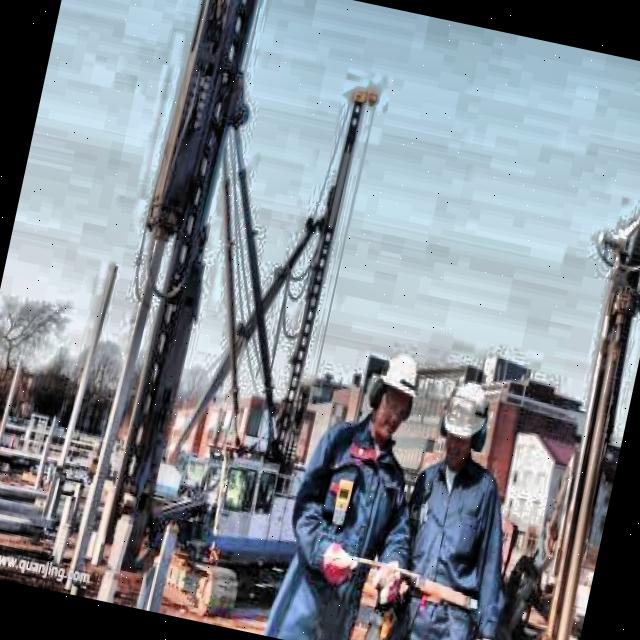helmet: (360, 339, 429, 448), (429, 370, 496, 476)
